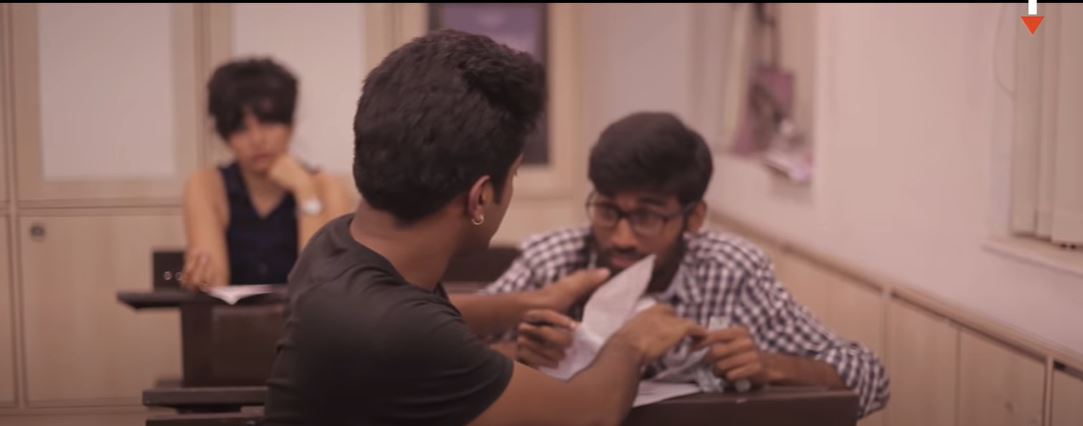student: (346, 75, 615, 425), (184, 64, 359, 273), (566, 131, 748, 292)
